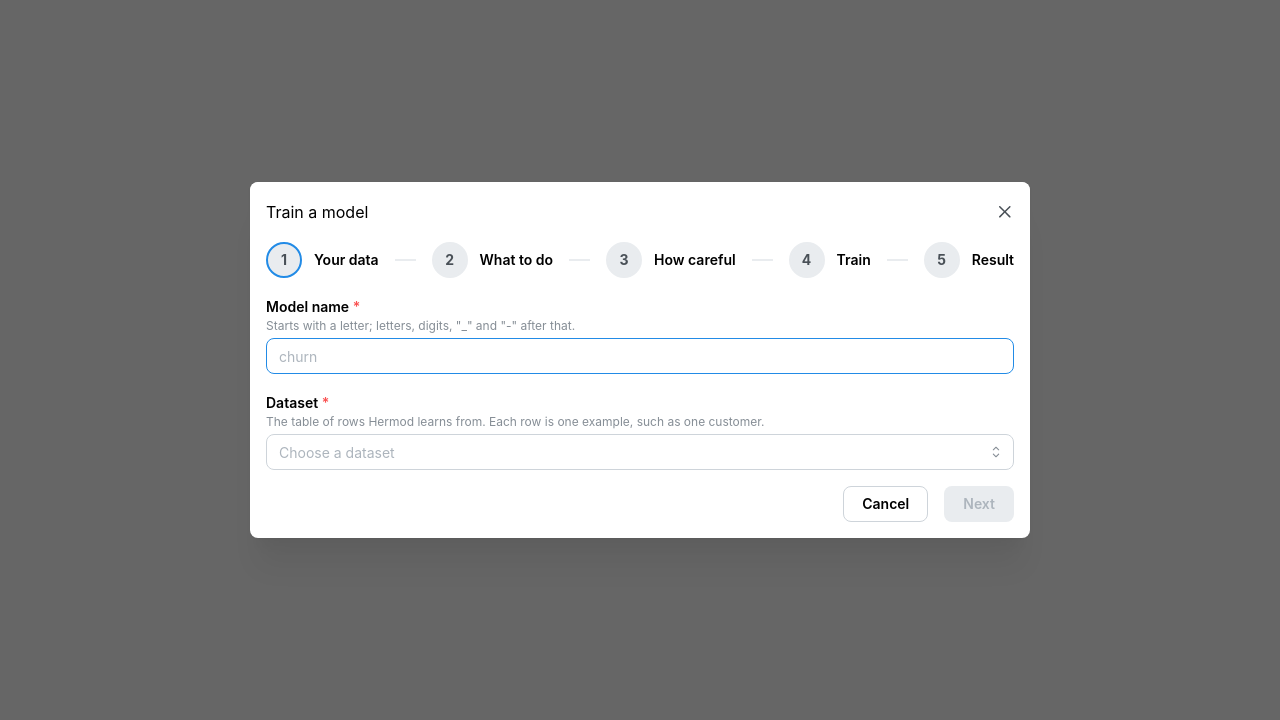
Test: the checklist in the train flow › a good dataset is all green and Next is free
The image size is (1280, 720).
Type "m1" into the field labelled "Model name *" at x=640, y=356, box [266,338,1014,374]
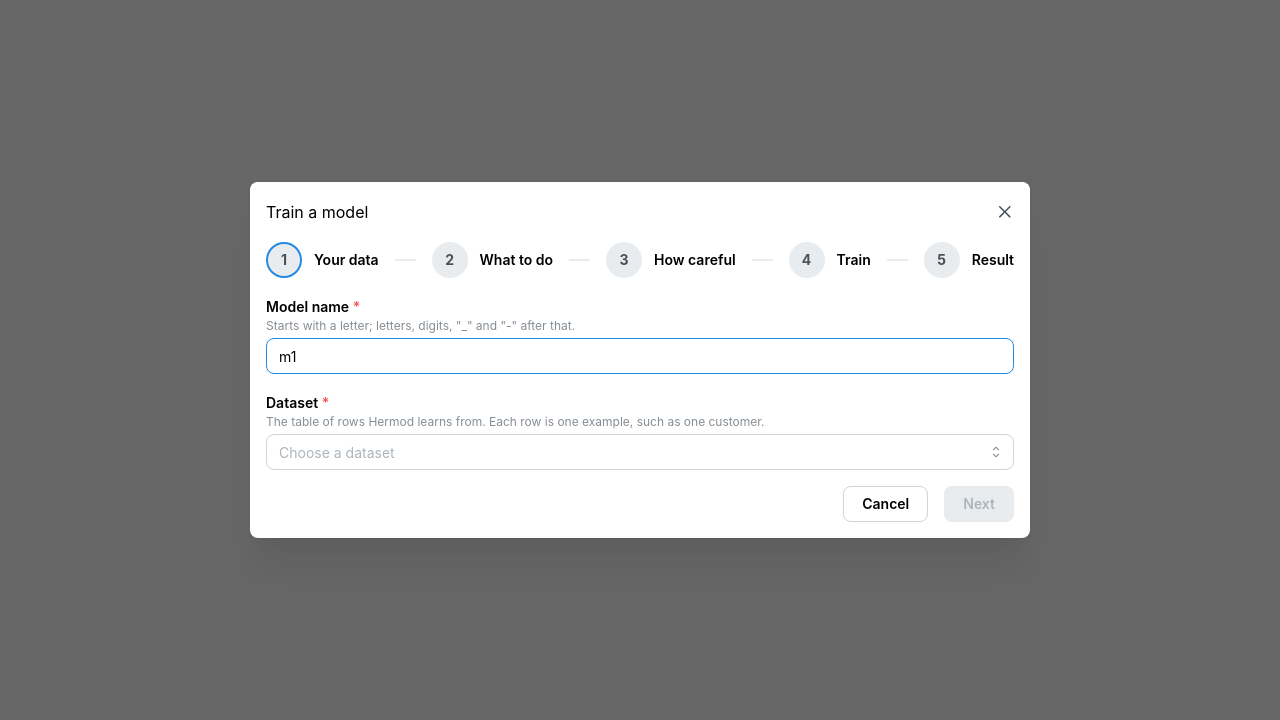
Click the dropdown labelled "Dataset *" at x=640, y=452, box [266,434,1014,470]
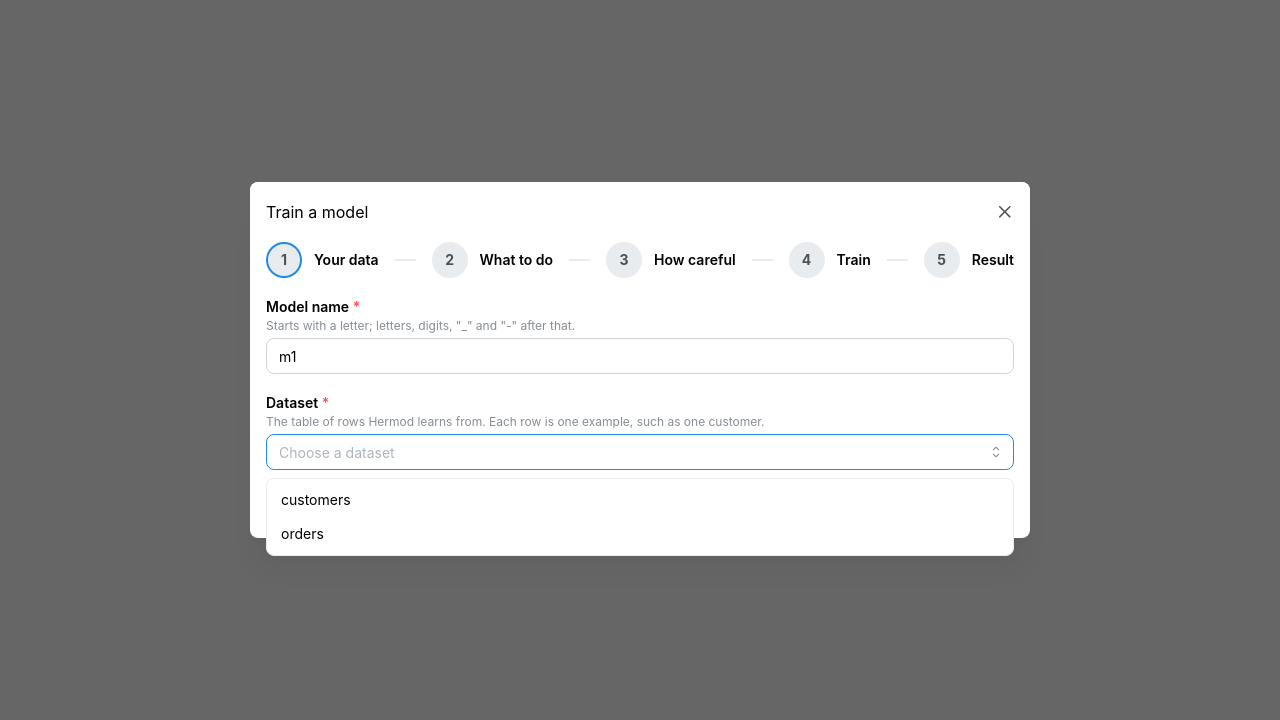
Click the option "customers" at x=316, y=500, box [281,491,351,508]
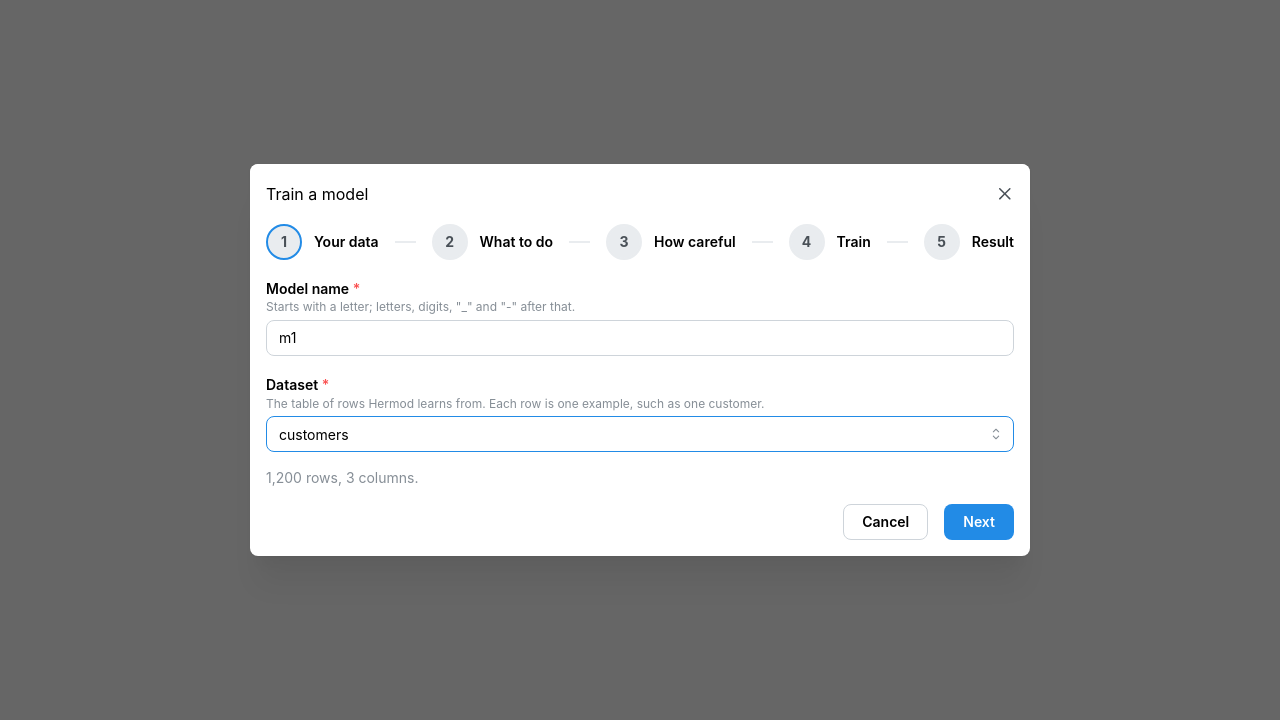
Click the button "Next" at x=979, y=522, box [944,504,1014,540]
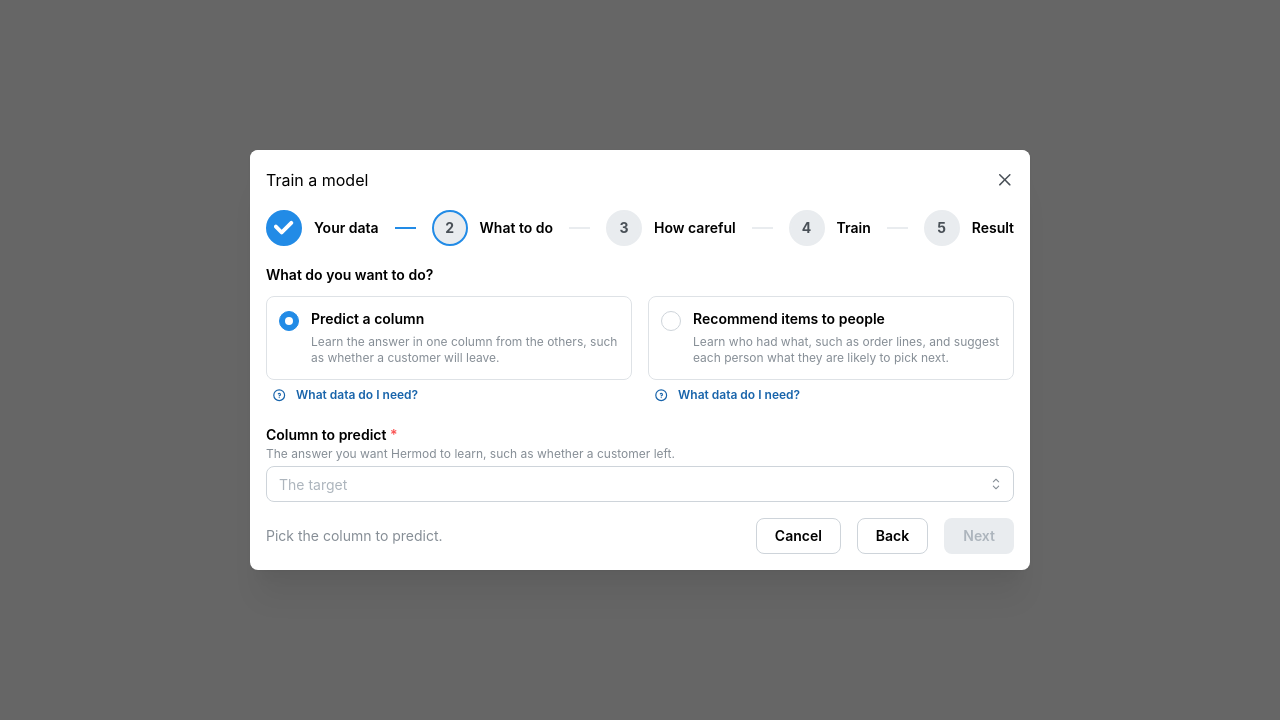
Click the dropdown labelled "Column to predict *" at x=640, y=484, box [266,466,1014,502]
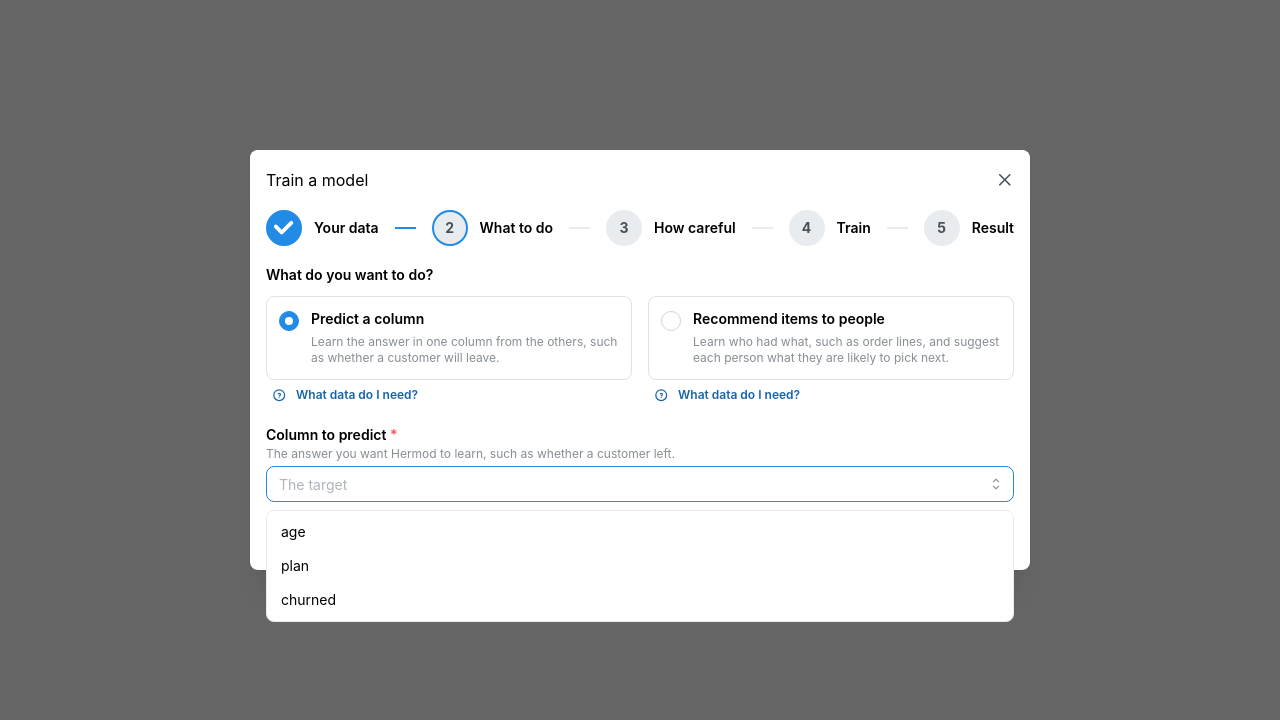
Click the option "churned" at x=309, y=599, box [281,591,336,608]
(page scrolled)
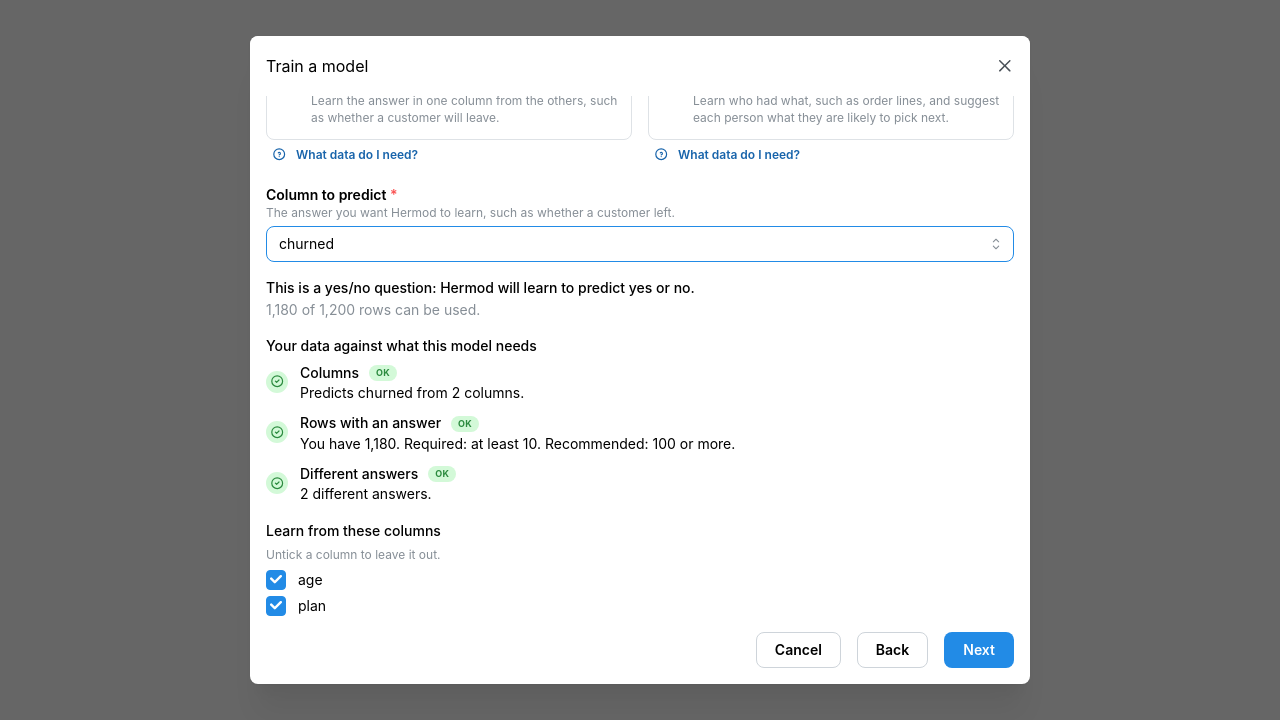
Now the button "Next" is enabled, box [944,632,1014,668]
